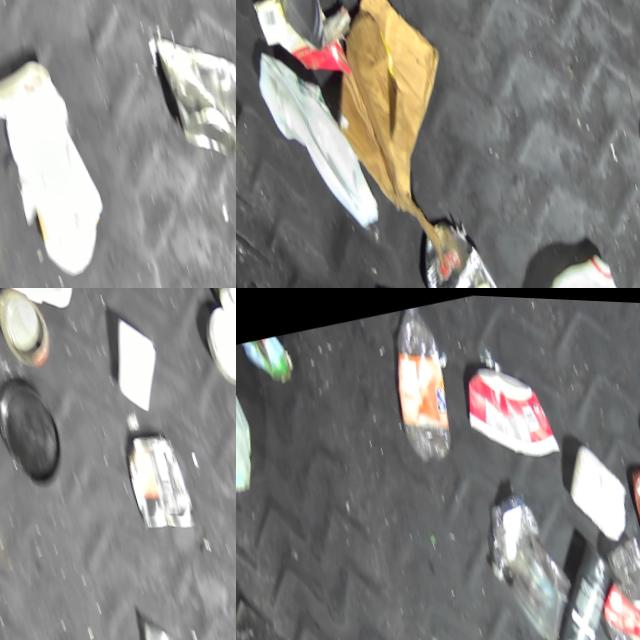can: (145, 13, 236, 167), (113, 420, 196, 537), (402, 205, 503, 288), (0, 288, 58, 375), (258, 0, 341, 56), (194, 295, 236, 388), (239, 331, 300, 394), (195, 288, 236, 328)
milk_jug: (244, 33, 380, 240), (509, 242, 625, 288), (236, 345, 267, 500)
plastic_bottle: (369, 301, 470, 471), (576, 526, 640, 640)
